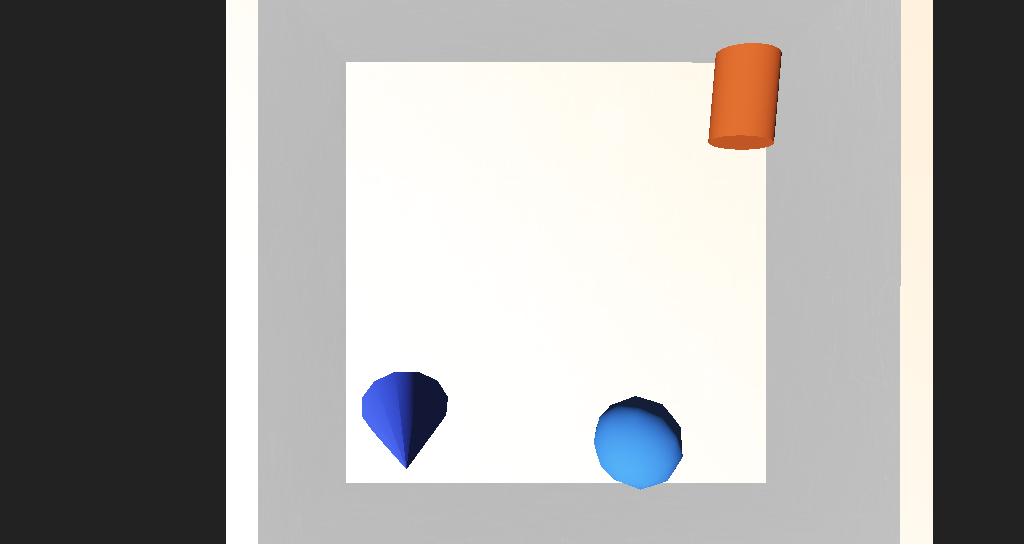cone: (610, 155, 670, 208)
cylinder: (354, 315, 441, 391)
sphere: (536, 332, 596, 375)
